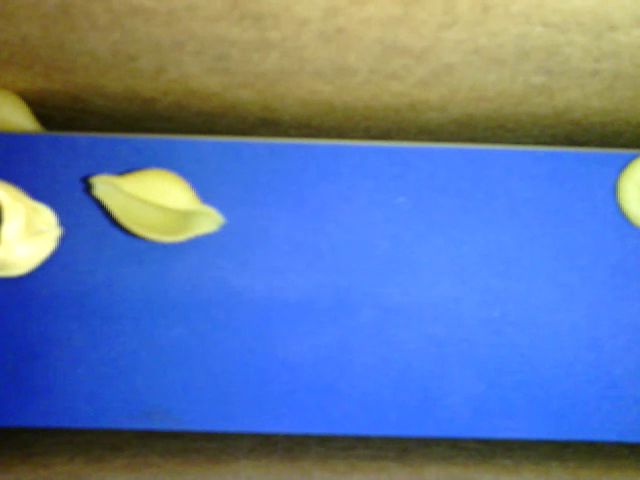shell: (89, 168, 227, 244)
